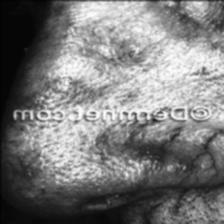Non-Cancerous Skin Condition: (15, 121, 224, 207), (43, 0, 216, 91)
